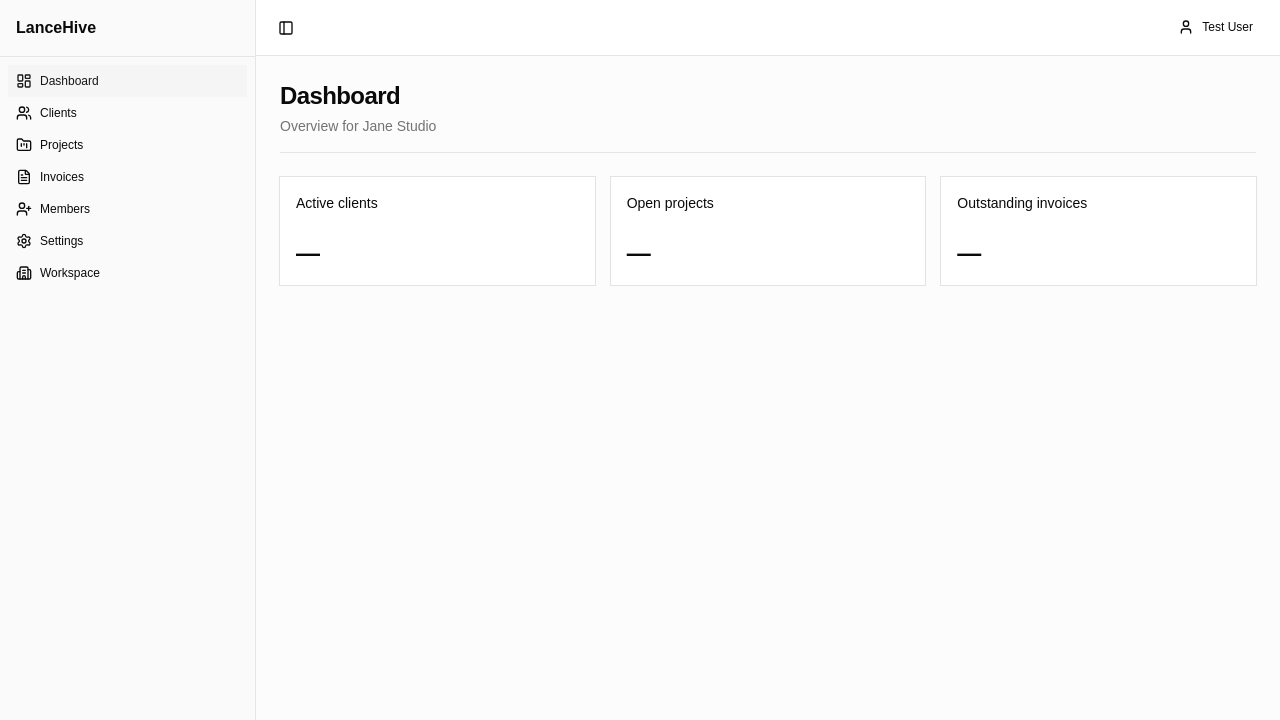
Test: AppRoutes › navigates to user settings from app shell
Expected: the text "Settings" is shown, [40,233,83,249]
Click the link "Settings" at (50, 241), box [16,233,83,249]
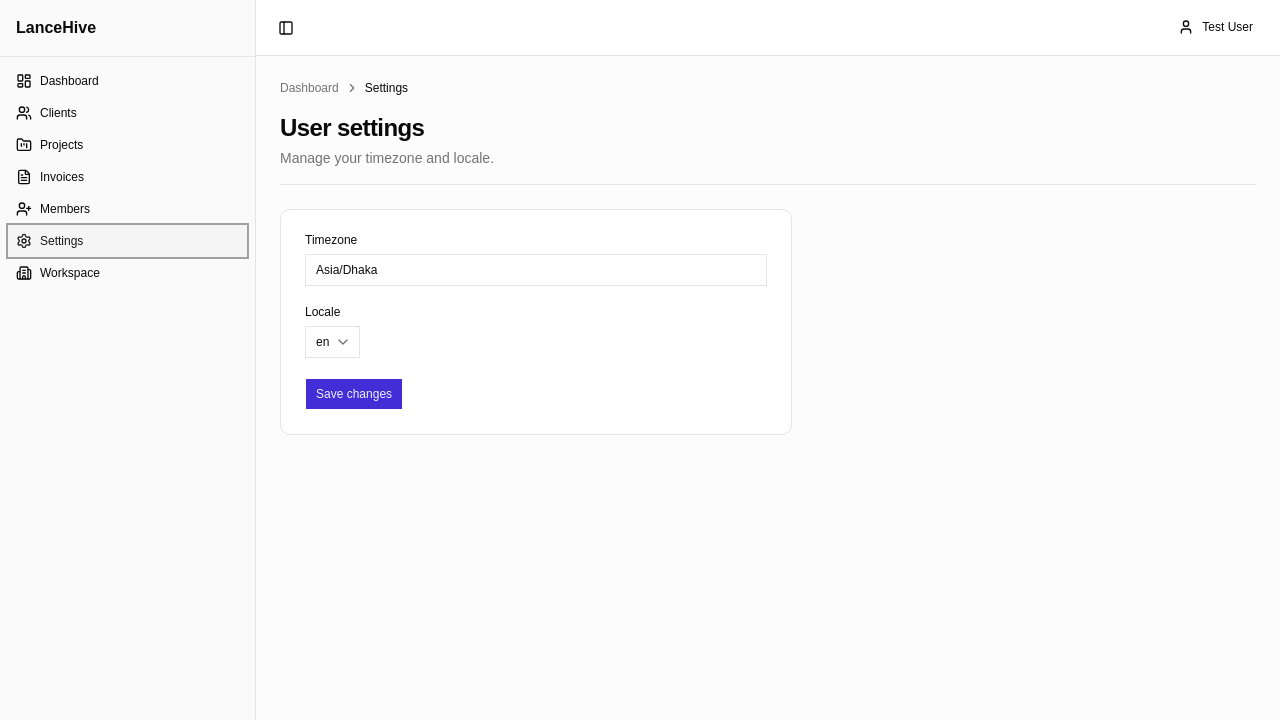
Result: the heading "User settings" is shown at [280,114,424,141]
